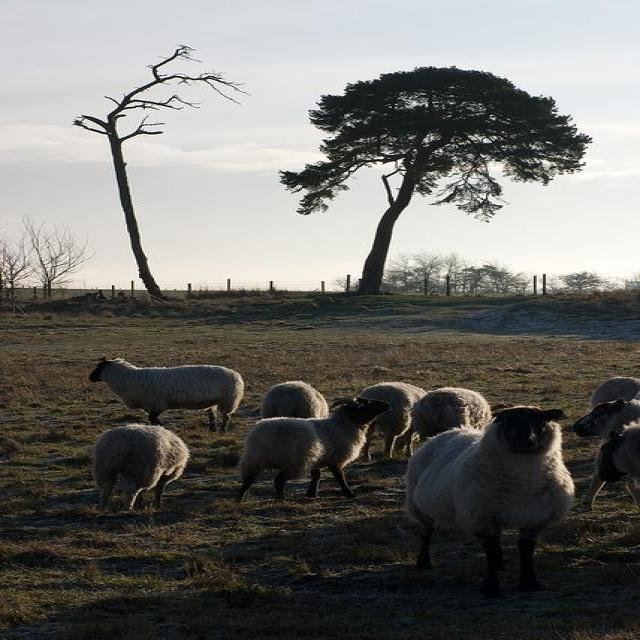Sheep: (86, 353, 638, 599), (85, 350, 251, 431), (96, 425, 191, 512)
